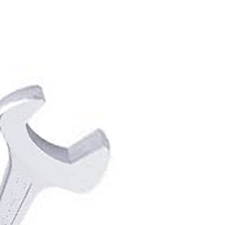wrench: (2, 72, 116, 223)
